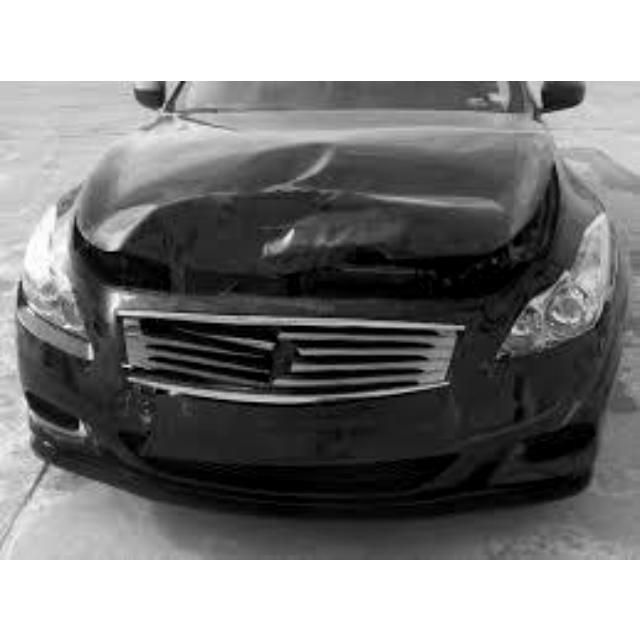bonnet-dent: (114, 108, 534, 263)
front-bumper-dent: (87, 308, 432, 473)
